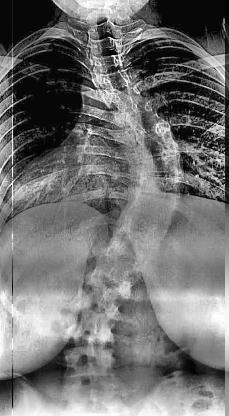Vertebrae: (87, 270, 135, 306), (118, 204, 180, 228), (100, 244, 152, 272), (72, 313, 114, 347), (78, 292, 122, 324), (130, 150, 188, 174), (65, 347, 115, 373), (123, 132, 175, 156), (137, 176, 185, 200), (108, 229, 160, 251), (118, 117, 166, 139), (114, 98, 156, 122), (104, 87, 147, 107), (89, 34, 129, 54), (94, 70, 134, 90), (90, 56, 130, 74), (90, 22, 124, 38)
